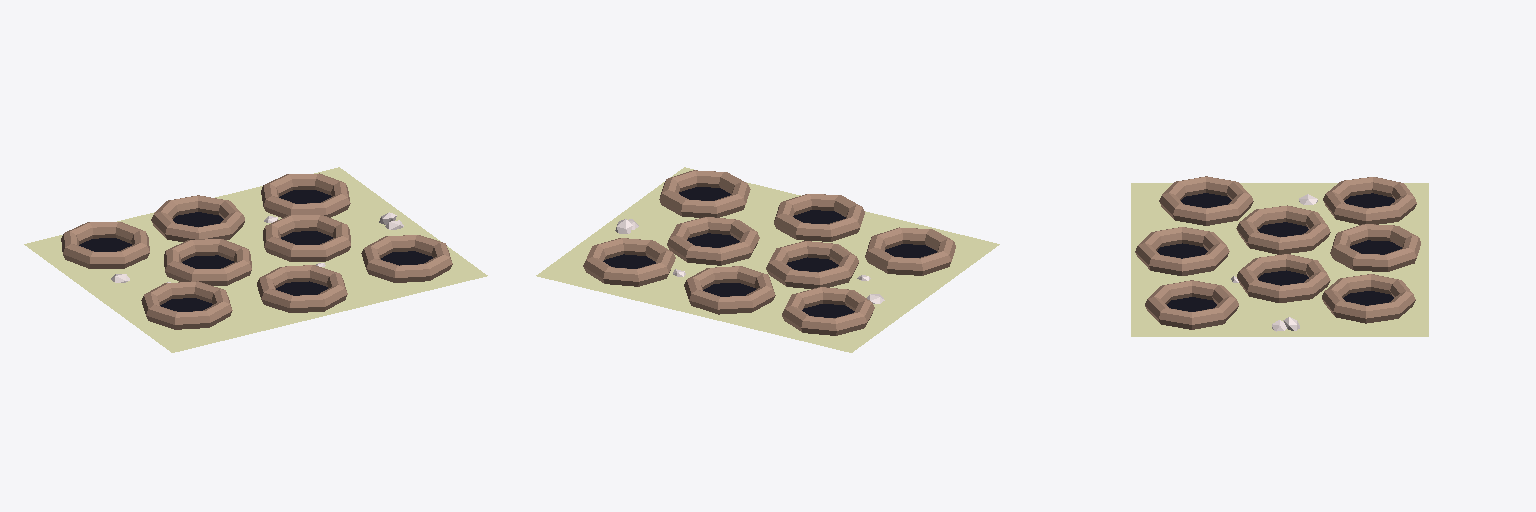
Rendered from holes_objfile.obj.
3 renders of one model, left to right at view 1: azimuth 30°, elevation 25°; view 2: azimuth 150°, elevation 25°; view 3: azimuth 270°, elevation 25°, orthographic.
Visible parts, largest first — view 1: Plane, Torus_7, Torus_4, Torus_1, Torus_5, Torus_2, Torus, Torus_6, Torus_3, Cylinder_6, Cylinder_5, Cylinder_7 (+3 smaller); view 2: Plane, Torus_1, Torus_2, Torus_6, Torus_5, Torus_7, Torus_3, Torus_4, Torus, Cylinder_5, Cylinder_3, Cylinder (+4 smaller); view 3: Plane, Torus_2, Torus_3, Torus, Torus_4, Torus_5, Torus_1, Torus_6, Torus_7, Cylinder_2, Cylinder_1, Cylinder_3 (+5 smaller).
Boxes of the visible parts, box(x1,y1,x2,y2) form: Plane: box(24, 167, 487, 352); Torus_7: box(61, 222, 149, 268); Torus_4: box(361, 235, 452, 282); Torus_1: box(257, 265, 347, 312); Torus_5: box(263, 215, 350, 261); Torus_2: box(141, 281, 232, 329); Torus: box(164, 239, 251, 285); Torus_6: box(151, 195, 244, 241); Torus_3: box(261, 173, 350, 217); Cylinder_6: box(173, 212, 223, 226); Cylinder_5: box(281, 231, 332, 244); Cylinder_7: box(79, 238, 131, 251); Plane: box(536, 167, 999, 352); Torus_1: box(774, 194, 864, 241); Torus_2: box(865, 227, 955, 275); Torus_6: box(684, 266, 775, 314); Torus_5: box(667, 217, 759, 265); Torus_7: box(782, 287, 874, 335); Torus_3: box(583, 238, 675, 286); Torus_4: box(659, 170, 750, 217); Torus: box(766, 241, 858, 288); Cylinder_5: box(687, 233, 739, 247); Cylinder_3: box(603, 254, 655, 268); Cylinder: box(787, 257, 838, 271); Plane: box(1131, 183, 1428, 336); Torus_2: box(1159, 176, 1253, 225); Torus_3: box(1322, 274, 1415, 323); Torus: box(1236, 205, 1330, 254); Torus_4: box(1145, 280, 1238, 329); Torus_5: box(1237, 254, 1330, 302); Torus_1: box(1135, 227, 1229, 275); Torus_6: box(1330, 224, 1420, 271); Torus_7: box(1323, 177, 1416, 224); Cylinder_2: box(1181, 193, 1231, 207); Cylinder_1: box(1157, 243, 1207, 258); Cylinder_3: box(1343, 291, 1393, 305).
Size of the model in its own units: 1038 by 73.8 by 847.